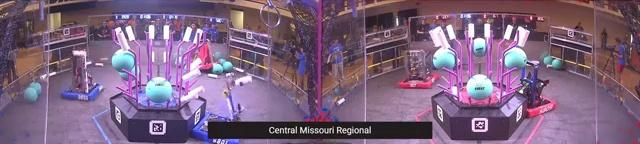reef: (430, 22, 532, 141), (111, 25, 206, 144)
robot: (192, 78, 243, 144), (62, 50, 104, 105), (518, 61, 556, 117), (397, 48, 441, 89), (195, 39, 220, 72)
